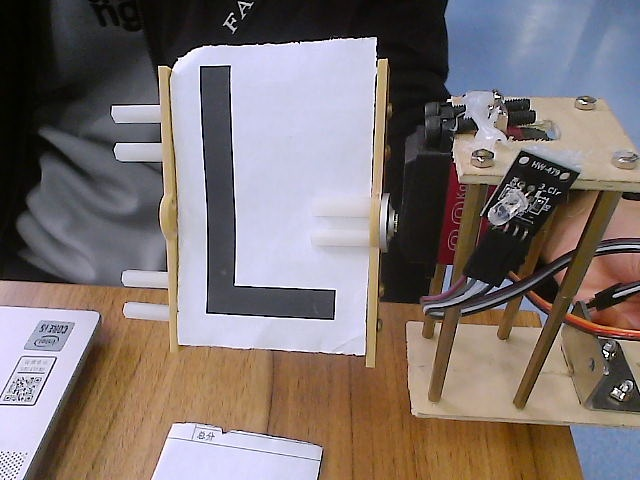L: (97, 18, 442, 376)
